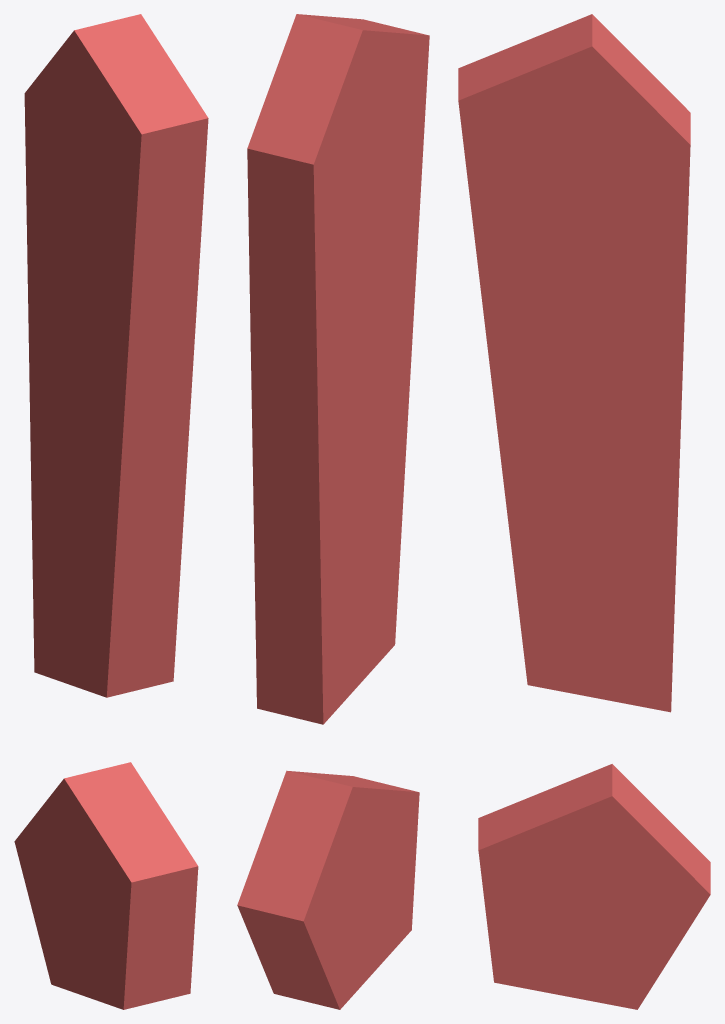
The model's file is 3DEx.fbx.
3 views of the same model, side by side, from view 1: azimuth 30°, elevation 25°; view 2: azimuth 150°, elevation 25°; view 3: azimuth 270°, elevation 25° (orthographic).
Parts seen in each view (by area): view 1: Cylinder.001; view 2: Cylinder.001; view 3: Cylinder.001.
Boxes of the visible parts, x1,y1,x2,y2 form: Cylinder.001: [14, 14, 208, 1009]; Cylinder.001: [237, 14, 429, 1009]; Cylinder.001: [458, 14, 710, 1009].
Bounding box in the file's own units: 13.86 × 192 × 45.62.
